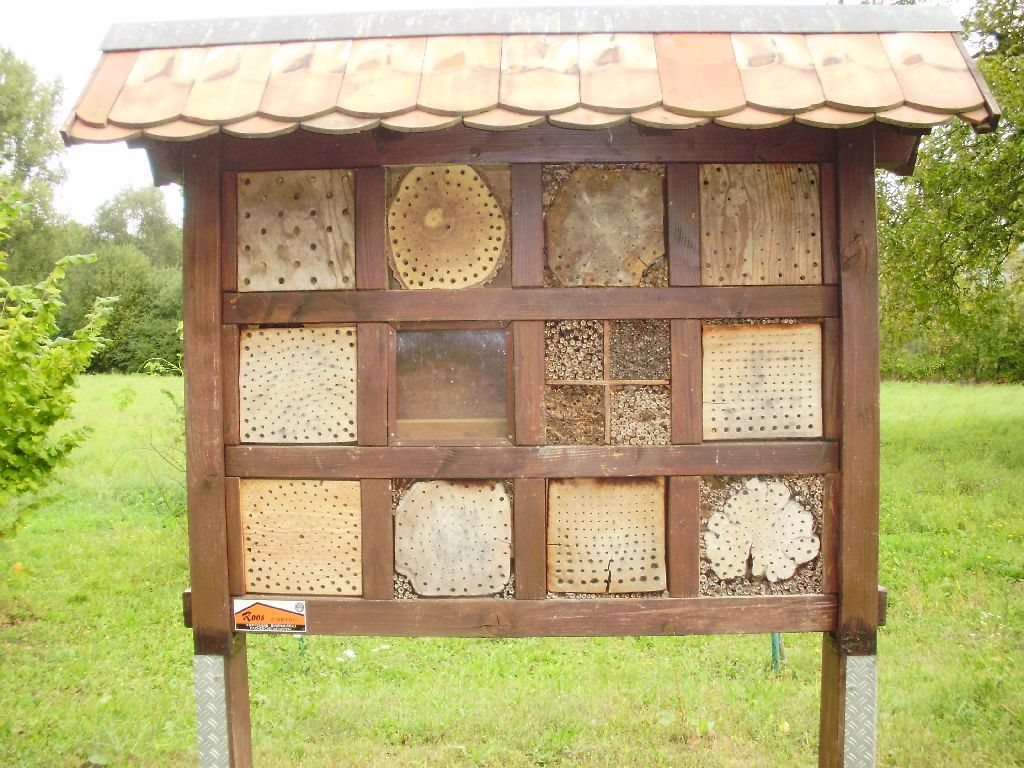Tree: (0, 0, 1023, 544)
